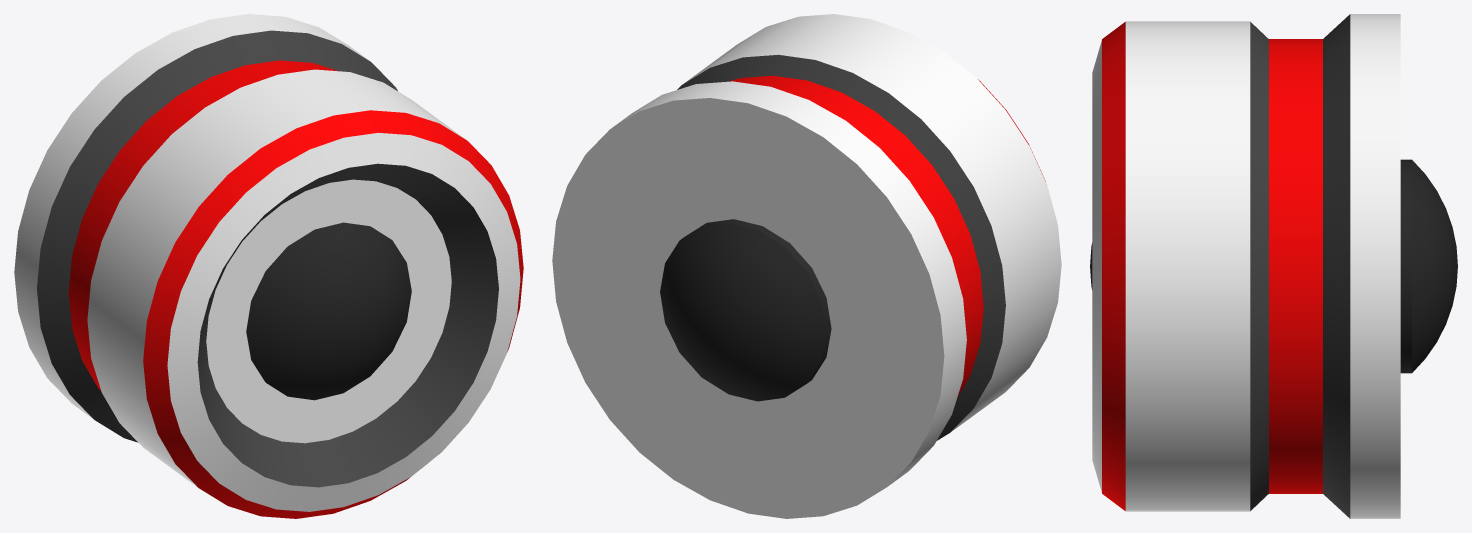
Rendered from fuelContainer.obj.
3 views of the same model, side by side, from view 1: azimuth 30°, elevation 25°; view 2: azimuth 150°, elevation 25°; view 3: azimuth 270°, elevation 25° (orthographic). The views are drawn at different scales.
Parts seen in each view (by area): view 1: Cylinder008, OilTank001; view 2: Cylinder008, OilTank001; view 3: Cylinder008, OilTank001.
Part boxes in pixels (<box>): Cylinder008: <box>14,14,523,518</box>; OilTank001: <box>246,222,411,400</box>; Cylinder008: <box>552,14,1061,518</box>; OilTank001: <box>660,219,831,401</box>; Cylinder008: <box>1092,14,1400,518</box>; OilTank001: <box>1090,159,1457,373</box>.
Size of the model in its own units: 1.65 by 1.65 by 1.2.
